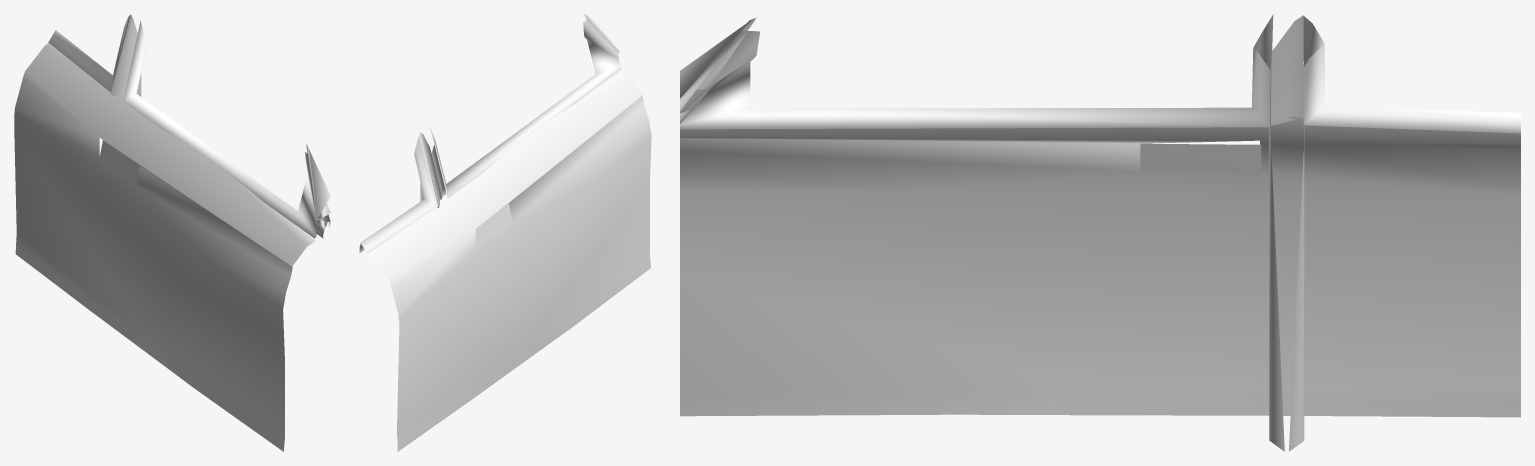
3 views of the same model, side by side, from view 1: azimuth 30°, elevation 25°; view 2: azimuth 150°, elevation 25°; view 3: azimuth 270°, elevation 25° (orthographic). The views are drawn at different scales.
Size of the model in its own units: 0.127 by 0.6696 by 1.16.
Materials: 1 (1 with a texture image).
